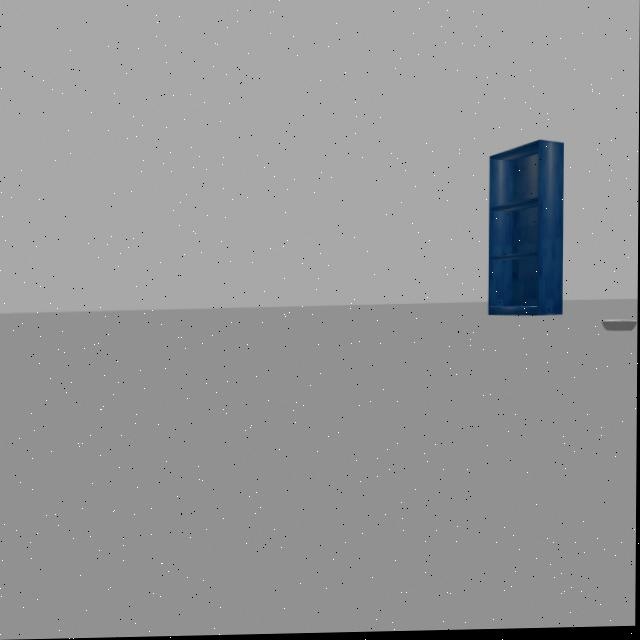bowl: (600, 318, 638, 340)
shelf: (482, 137, 572, 332)
